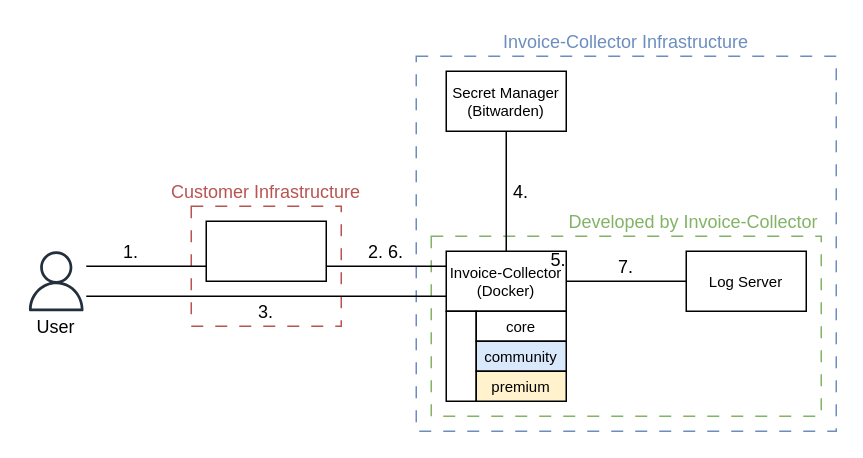
This 863x458 diagram has some shape labels left out. Here are the shapes that lost their labels. From the top down, the box of each, then its label:
(205, 220, 326, 281): Customer App
(445, 310, 476, 401): collectors
